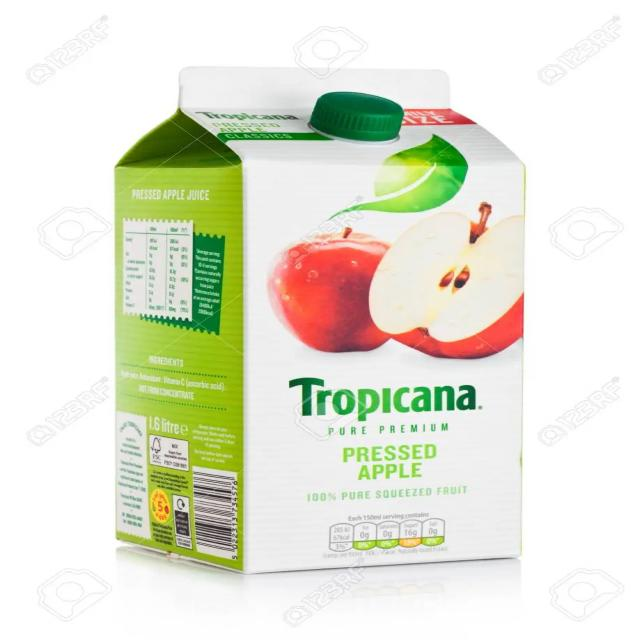non_white_jug: (81, 42, 521, 575)
